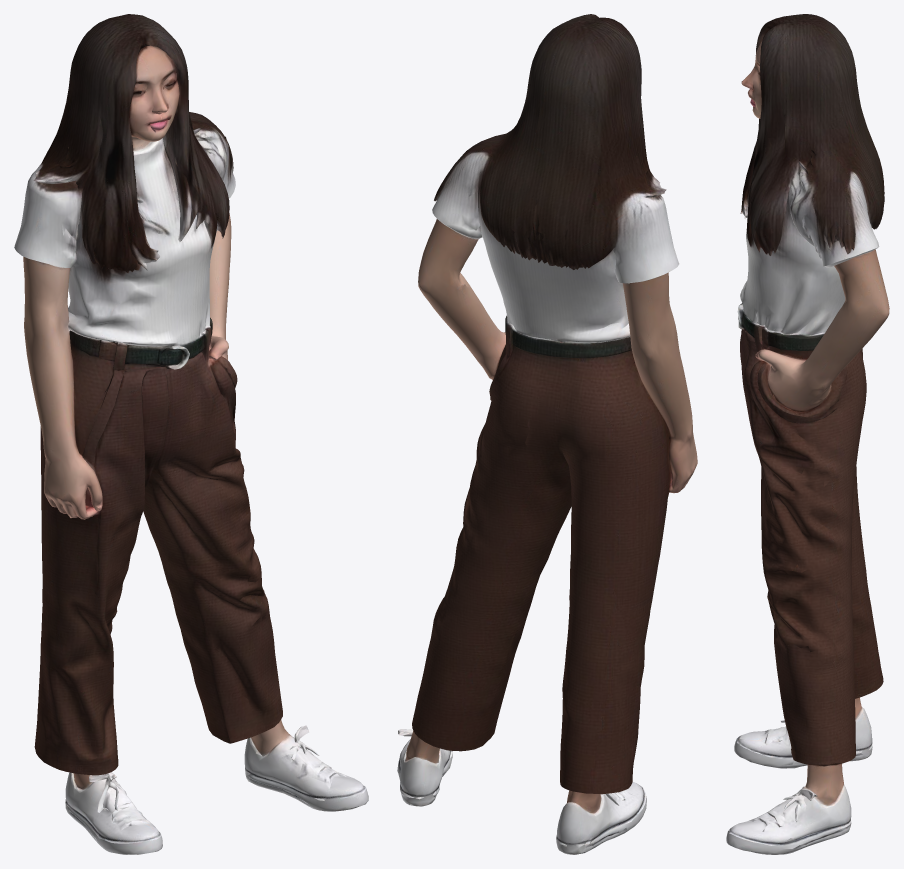
File: person_04.glb
3 renders of one model, left to right at view 1: azimuth 30°, elevation 25°; view 2: azimuth 150°, elevation 25°; view 3: azimuth 270°, elevation 25°, orthographic. The views are drawn at different scales.
Parts seen in each view (by area): view 1: Mesh; view 2: Mesh; view 3: Mesh.
Boxes of the visible parts, bbox=[...] form: Mesh: bbox=[14, 14, 368, 854]; Mesh: bbox=[397, 14, 697, 854]; Mesh: bbox=[726, 14, 889, 854].
Size of the model in its own units: 0.7479 by 1.9 by 0.3759.
Materials: 1 (1 with a texture image).
